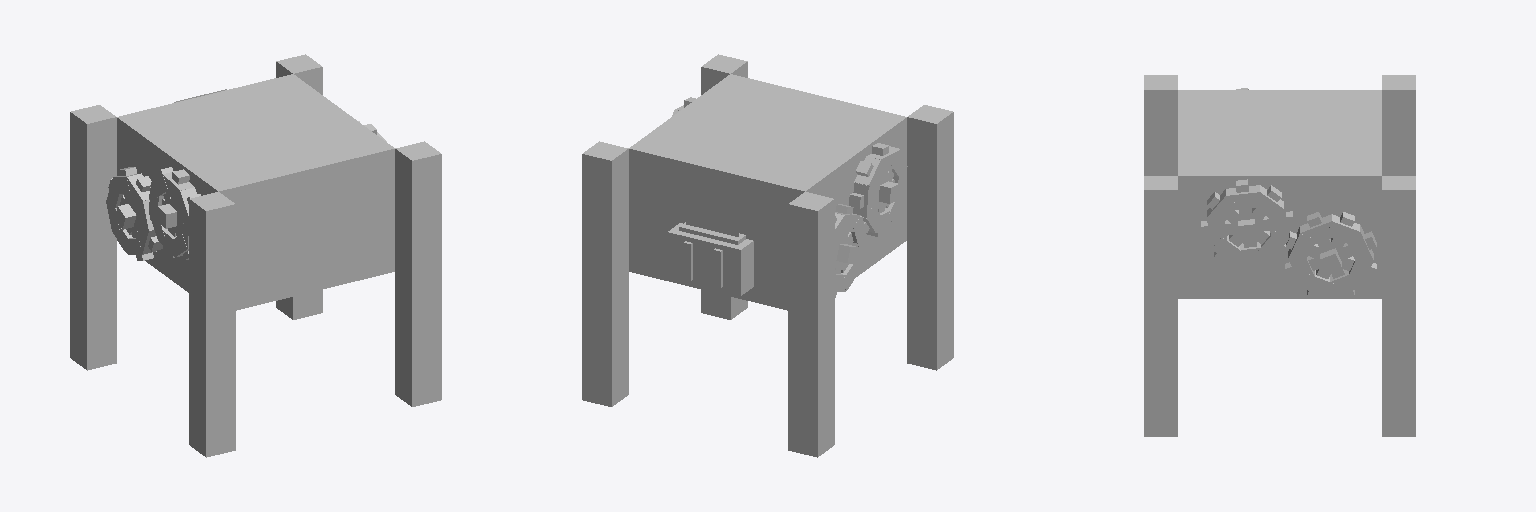
File: item_extractor_filtered.obj
3 views of the same model, side by side, from view 1: azimuth 30°, elevation 25°; view 2: azimuth 150°, elevation 25°; view 3: azimuth 270°, elevation 25° (orthographic).
Visible parts, largest first — view 1: body, legs; view 2: body, legs, card; view 3: body, legs.
Boxes of the visible parts, box(x1,y1,x2,y2) form: body: box(106, 74, 394, 310); legs: box(70, 54, 441, 457); body: box(629, 74, 907, 310); legs: box(582, 54, 953, 457); card: box(686, 170, 738, 236); body: box(1178, 88, 1381, 298); legs: box(1144, 75, 1415, 436).
Bounding box in the file's own units: 1 × 1 × 1.